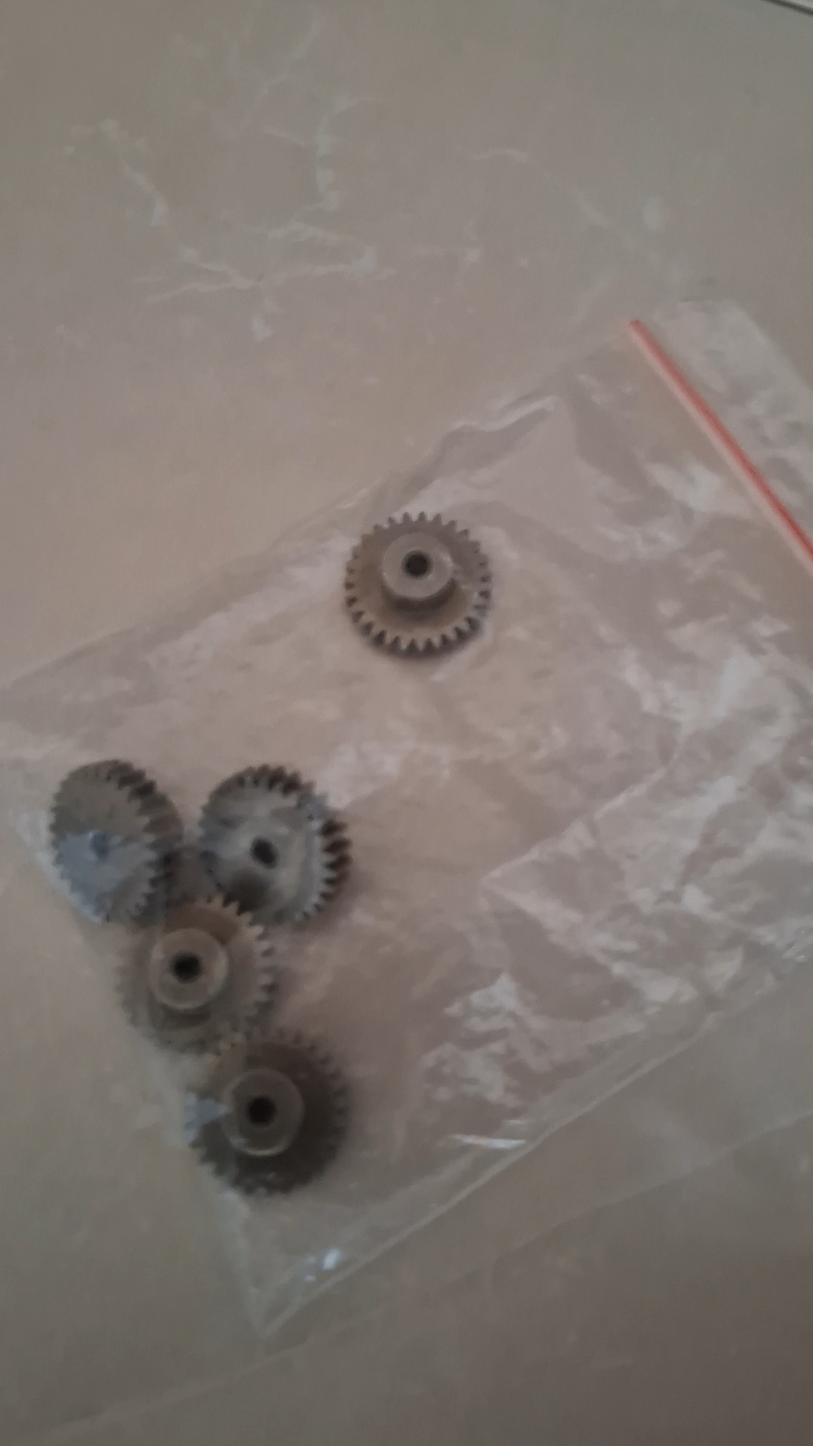spur gear: (187, 1030, 348, 1193), (120, 899, 277, 1051), (199, 766, 349, 921), (50, 760, 182, 922), (345, 513, 491, 654)
